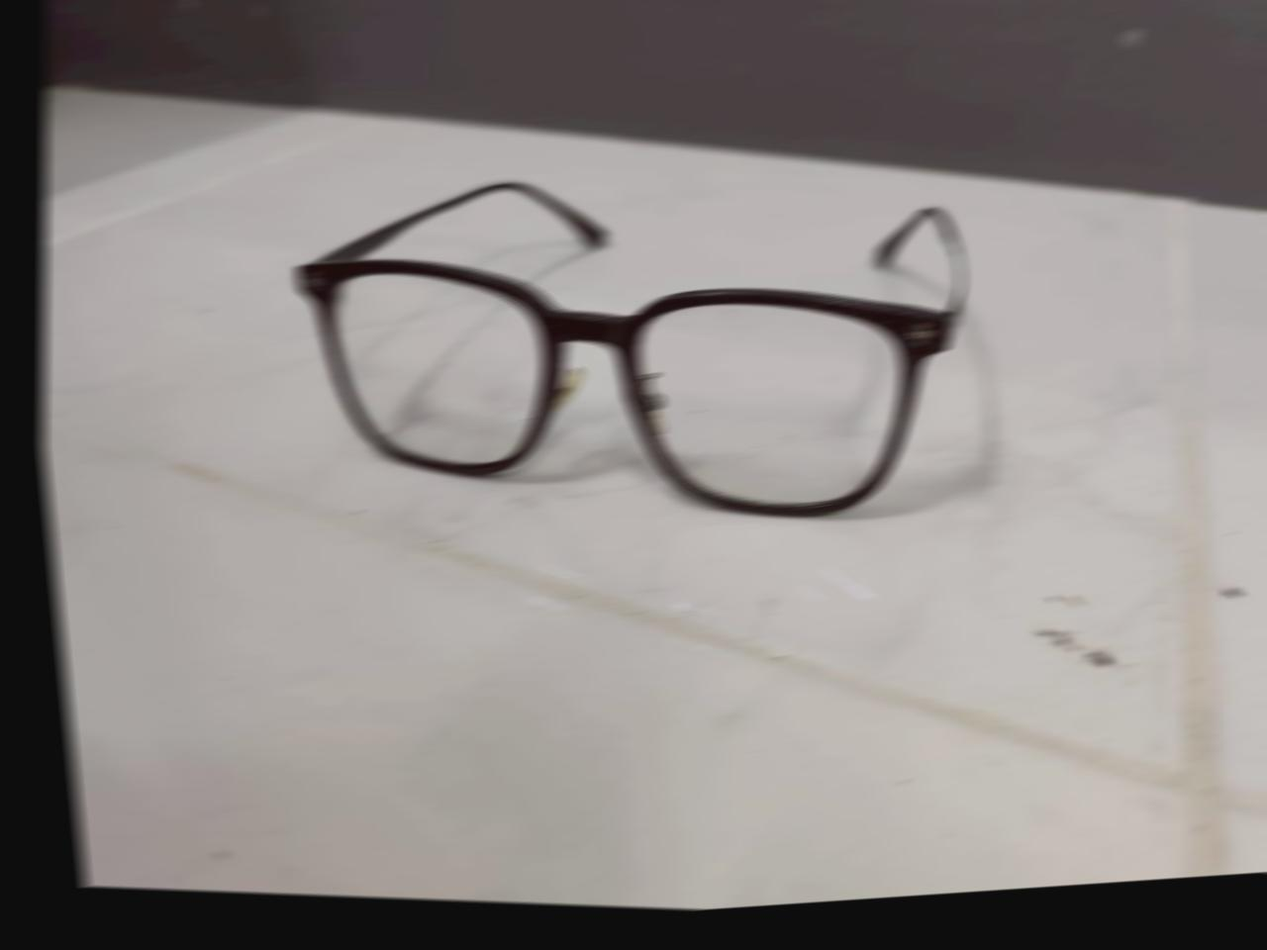glasses: (238, 107, 1024, 577)
